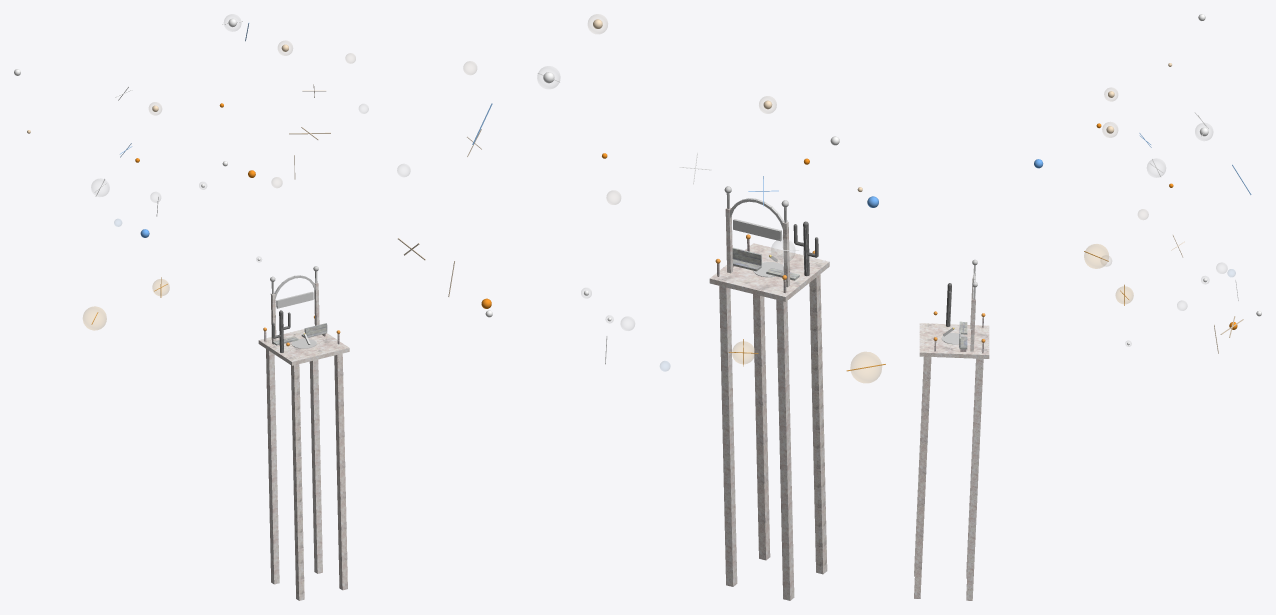
File: HighwireHorizon_03.obj
3 renders of one model, left to right at view 1: azimuth 30°, elevation 25°; view 2: azimuth 150°, elevation 25°; view 3: azimuth 270°, elevation 25°, orthographic. The views are drawn at different scales.
Parts seen in each view (by area): view 1: Box0021, Box0041, Box0011, Box0031, Box0051; view 2: Box0031, Box0011, Box0021, Box0041, Box0051, Halo32; view 3: Box0051, Box0031, Box0041, Halo32.
Boxes of the visible parts, left/top/right/bottom form: Box0021: left=291, top=357, right=304, bottom=600; Box0041: left=334, top=346, right=347, bottom=590; Box0011: left=266, top=341, right=279, bottom=584; Box0031: left=309, top=359, right=322, bottom=573; Box0051: left=258, top=329, right=349, bottom=365; Box0031: left=719, top=274, right=737, bottom=586; Box0011: left=776, top=288, right=794, bottom=600; Box0021: left=809, top=261, right=827, bottom=574; Box0041: left=753, top=247, right=770, bottom=560; Box0051: left=709, top=243, right=829, bottom=301; Halo32: left=850, top=352, right=881, bottom=382; Box0051: left=919, top=323, right=989, bottom=358; Box0031: left=966, top=349, right=983, bottom=600; Box0041: left=914, top=347, right=931, bottom=598; Halo32: left=1084, top=244, right=1108, bottom=268.
Bounding box in the file's own units: 96.07 × 125 × 79.94.
21 materials, 8 textured.
